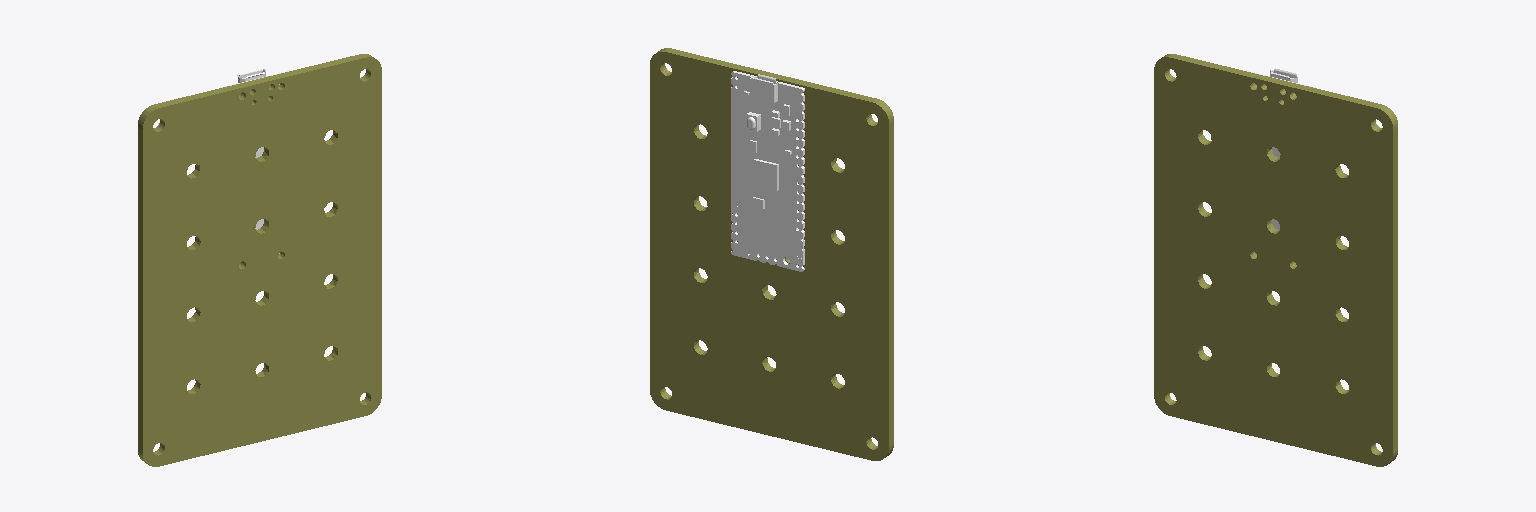
The model's file is OBJ_PCB_PicoKeys.obj.
3 renders of one model, left to right at view 1: azimuth 30°, elevation 25°; view 2: azimuth 150°, elevation 25°; view 3: azimuth 330°, elevation 25°, orthographic.
Size of the model in its own units: 274 by 396 by 25.33.